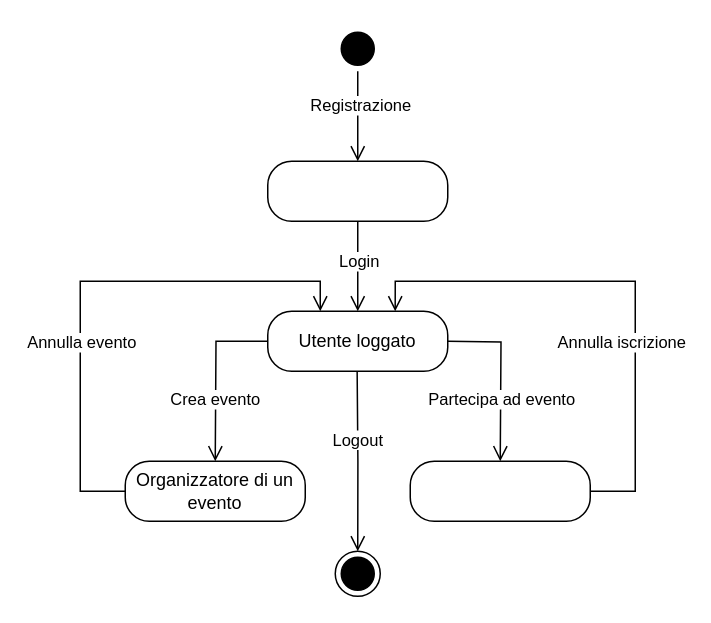
The diagram is 711 pixels wide and 623 high, and some of its shapes have lost their labels. The shapes that lost their labels are listed below. From the top down, each one's centre as x and y in pixels, then its label:
pixel 357 190: Utente registrato
pixel 499 490: Partecipante di un evento
